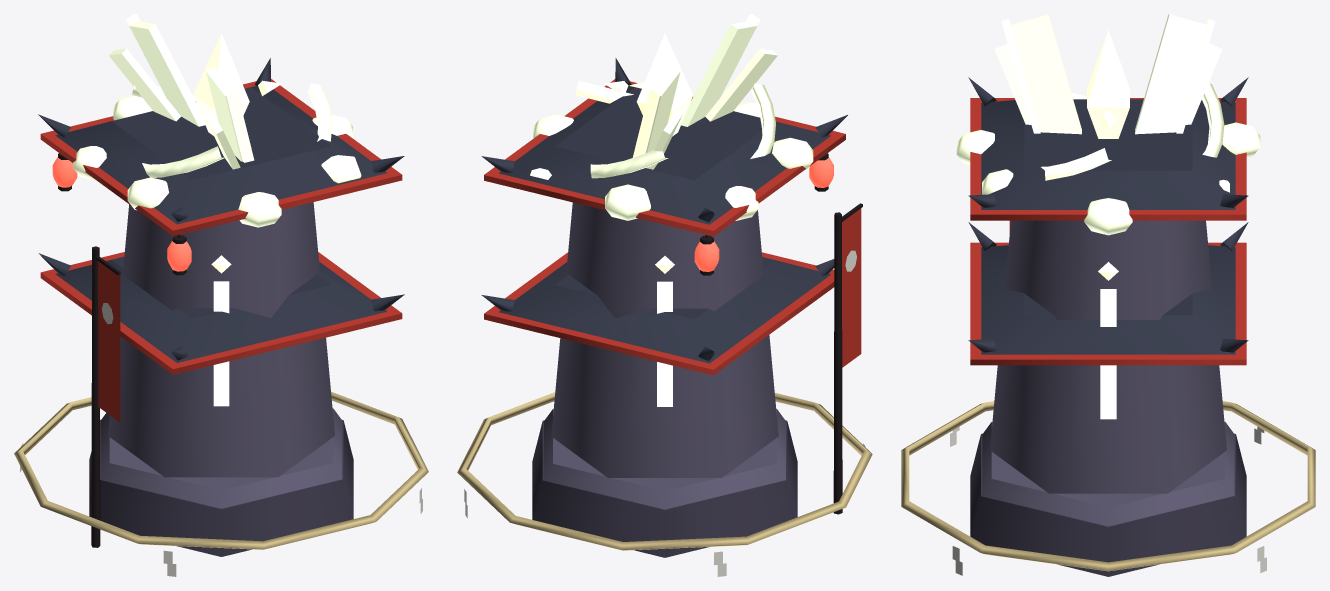
The model's file is tower_element_elementTempest.glb.
3 views of the same model, side by side, from view 1: azimuth 30°, elevation 25°; view 2: azimuth 150°, elevation 25°; view 3: azimuth 270°, elevation 25° (orthographic). The views are drawn at different scales.
Parts seen in each view (by area): view 1: pillar, deco_eave_0_roof, deco_eave_1_roof, base, base_top, deco_shimenawa_rope, deco_eave_1_rim, deco_eave_0_rim, deco_nobori_cloth, wing_r_vane, deco_nobori_pole, crystal (+16 smaller); view 2: pillar, deco_eave_0_roof, deco_eave_1_roof, base, base_top, deco_shimenawa_rope, deco_eave_1_rim, deco_eave_0_rim, deco_nobori_cloth, wing_l_vane, deco_nobori_pole, crystal (+15 smaller); view 3: pillar, deco_eave_0_roof, deco_eave_1_roof, base, base_top, deco_shimenawa_rope, deco_eave_1_rim, wing_l_vane, wing_r_vane, deco_eave_0_rim, crystal, rune_0 (+12 smaller).
Boxes of the visible parts, x1,y1,x2,y2 form: pillar: (108, 202, 334, 477); deco_eave_0_roof: (55, 85, 387, 224); deco_eave_1_roof: (55, 256, 387, 362); base: (89, 420, 353, 556); base_top: (100, 408, 342, 508); deco_shimenawa_rope: (14, 391, 428, 549); deco_eave_1_rim: (40, 252, 402, 374); deco_eave_0_rim: (40, 79, 402, 236); deco_nobori_cloth: (98, 261, 120, 422); wing_r_vane: (129, 21, 205, 126); deco_nobori_pole: (91, 246, 100, 547); crystal: (193, 33, 249, 135); pillar: (551, 202, 778, 477); deco_eave_0_roof: (499, 86, 830, 224); deco_eave_1_roof: (499, 257, 830, 363); base: (532, 420, 797, 557); base_top: (544, 409, 785, 509); deco_shimenawa_rope: (457, 392, 872, 550); deco_eave_1_rim: (484, 252, 834, 375); deco_eave_0_rim: (484, 79, 845, 236); deco_nobori_cloth: (842, 208, 861, 367); wing_l_vane: (681, 21, 757, 126); deco_nobori_pole: (833, 212, 842, 514); crystal: (636, 33, 693, 136); pillar: (990, 220, 1226, 493); deco_eave_0_roof: (981, 99, 1235, 209); deco_eave_1_roof: (981, 245, 1235, 354); base: (970, 433, 1246, 576); base_top: (982, 421, 1234, 526); deco_shimenawa_rope: (901, 401, 1315, 571); deco_eave_1_rim: (970, 242, 1246, 365); wing_l_vane: (1010, 14, 1081, 134); wing_r_vane: (1135, 14, 1206, 134); deco_eave_0_rim: (970, 98, 1246, 220); crystal: (1087, 30, 1129, 138); rune_0: (1100, 289, 1116, 419).
Size of the model in its own units: 0.5326 by 0.6474 by 0.5066.
